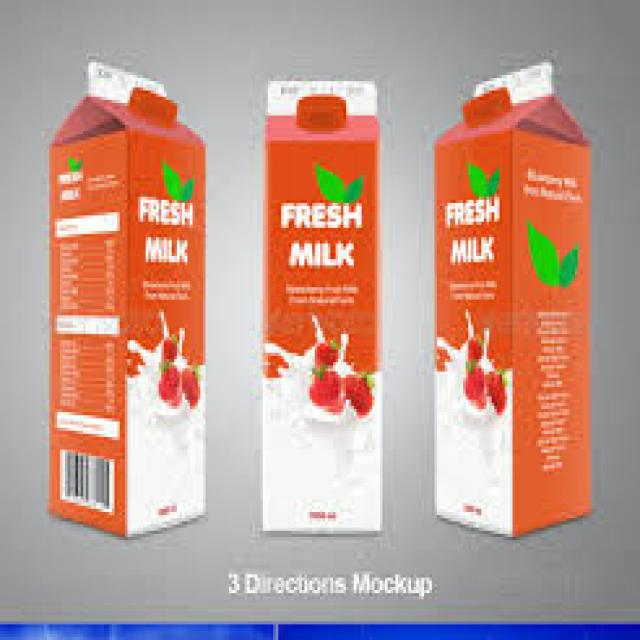non_white_jug: (17, 41, 220, 556), (426, 62, 602, 559), (247, 61, 388, 551)
